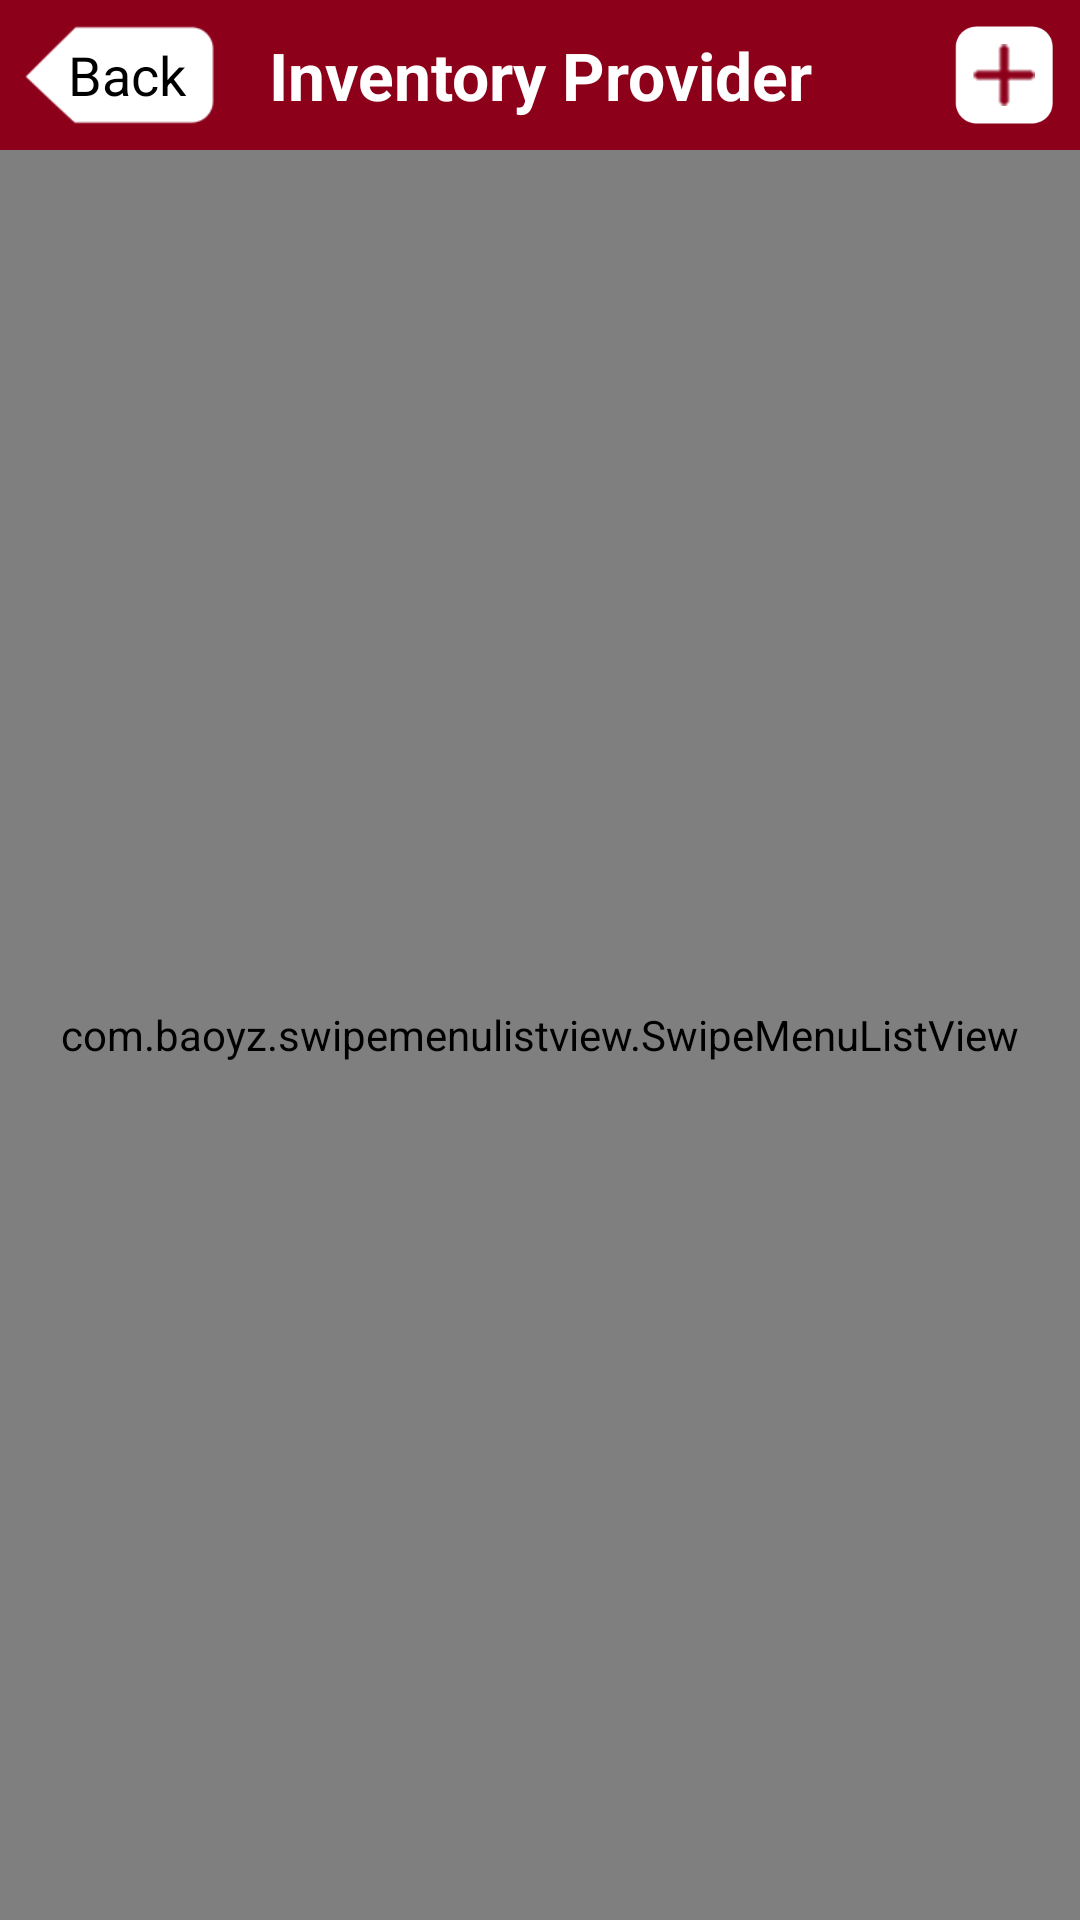

Screen size 1080 x 1920. Icon name, then its box in pixels as bbox=[x1, y1, x2, y2]:
plus: bbox=[955, 26, 1053, 124]
